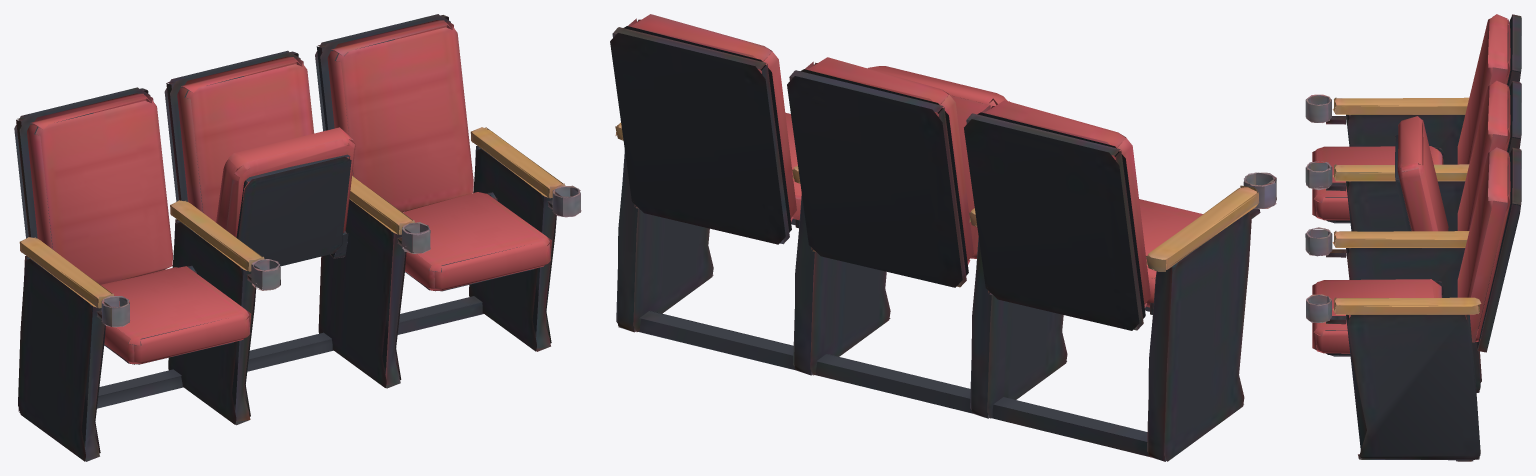
File: seat-mobile.glb
3 views of the same model, side by side, from view 1: azimuth 30°, elevation 25°; view 2: azimuth 150°, elevation 25°; view 3: azimuth 270°, elevation 25° (orthographic). The views are drawn at different scales.
Visible parts, largest first — view 1: cinema-seat_body, cinema-seat_seat_middle, cinema-seat_seat_right, cinema-seat_seat_left; view 2: cinema-seat_body, cinema-seat_seat_middle, cinema-seat_seat_left, cinema-seat_seat_right; view 3: cinema-seat_body, cinema-seat_seat_middle, cinema-seat_seat_right, cinema-seat_seat_left.
Boxes of the visible parts, x1,y1,x2,y2 form: cinema-seat_body: (14,14,581,461); cinema-seat_seat_middle: (216,127,355,266); cinema-seat_seat_right: (402,192,551,291); cinema-seat_seat_left: (100,265,251,364); cinema-seat_body: (610,14,1276,461); cinema-seat_seat_middle: (868,66,1009,258); cinema-seat_seat_left: (1139,199,1202,314); cinema-seat_seat_right: (785,112,801,228); cinema-seat_body: (1305,14,1521,461); cinema-seat_seat_middle: (1395,116,1448,231); cinema-seat_seat_right: (1312,279,1444,356); cinema-seat_seat_left: (1312,146,1444,223).
Size of the model in its own units: 1.77 by 0.9987 by 0.7677.
Materials: 4 (4 with a texture image).
